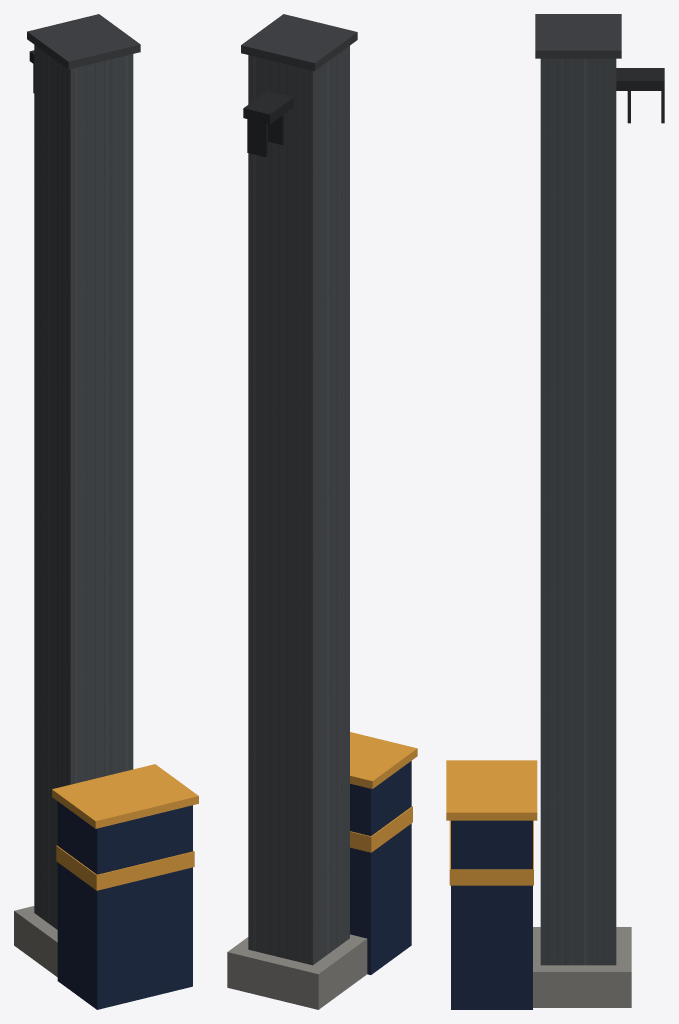
The model's file is MinidoracatKnoxPass_slidemotor2_F.glb.
The picture shows the model from 3 angles, left to right: view 1: azimuth 30°, elevation 25°; view 2: azimuth 150°, elevation 25°; view 3: azimuth 270°, elevation 25°; orthographic projection. The views are drawn at different scales.
Visible parts, largest first — view 1: MinidoracatKnoxPass_slidemotor2_F; view 2: MinidoracatKnoxPass_slidemotor2_F; view 3: MinidoracatKnoxPass_slidemotor2_F.
Boxes of the visible parts, bbox=[...] form: MinidoracatKnoxPass_slidemotor2_F: bbox=[14, 14, 198, 1009]; MinidoracatKnoxPass_slidemotor2_F: bbox=[227, 14, 417, 1009]; MinidoracatKnoxPass_slidemotor2_F: bbox=[446, 14, 664, 1009].
Bounding box in the file's own units: 0.56 × 4.74 × 0.983.
1 material, 1 textured.
